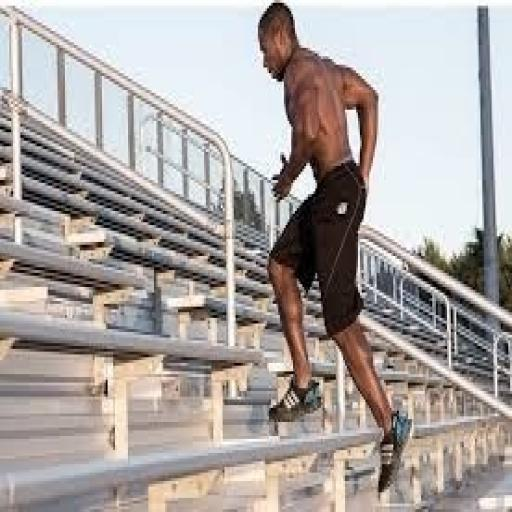running: (254, 0, 418, 487)
